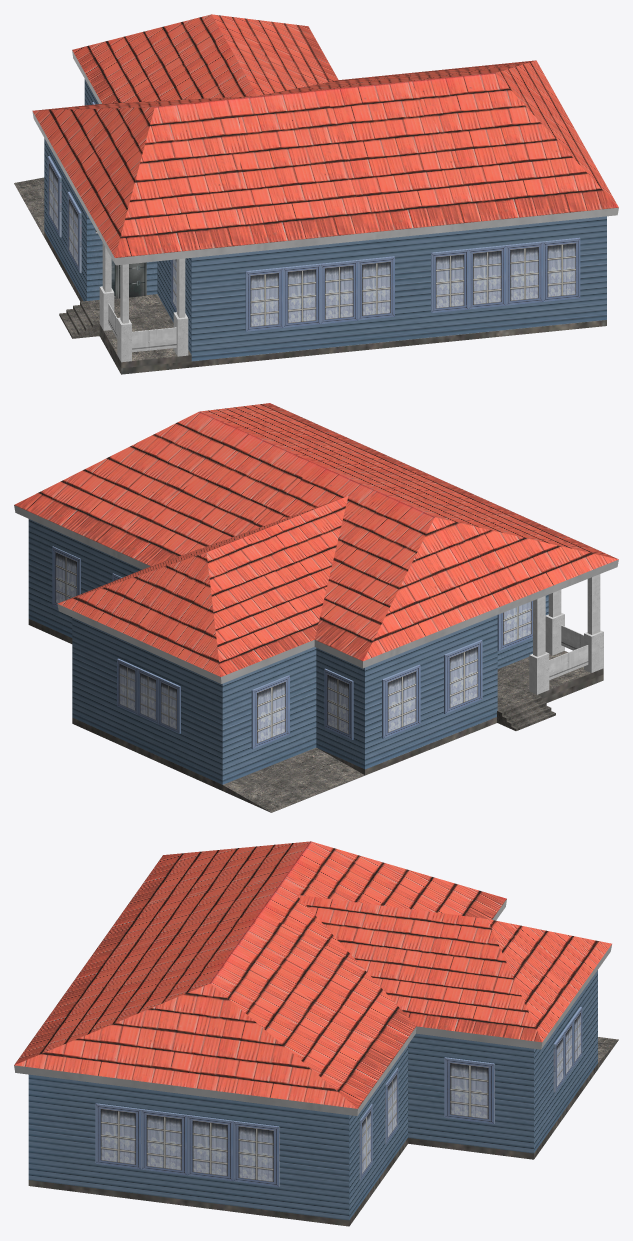
The model's file is house_04__9_.FBX.
The picture shows the model from 3 angles, top to bottom: view 1: azimuth 30°, elevation 25°; view 2: azimuth 150°, elevation 25°; view 3: azimuth 270°, elevation 25°; orthographic projection. The views are drawn at different scales.
Parts seen in each view (by area): view 1: house_04__9_; view 2: house_04__9_; view 3: house_04__9_.
Boxes of the visible parts, x1,y1,x2,y2 form: house_04__9_: [14, 14, 618, 374]; house_04__9_: [14, 403, 618, 812]; house_04__9_: [14, 841, 618, 1226].
Size of the model in its own units: 225 by 79.33 by 226.
